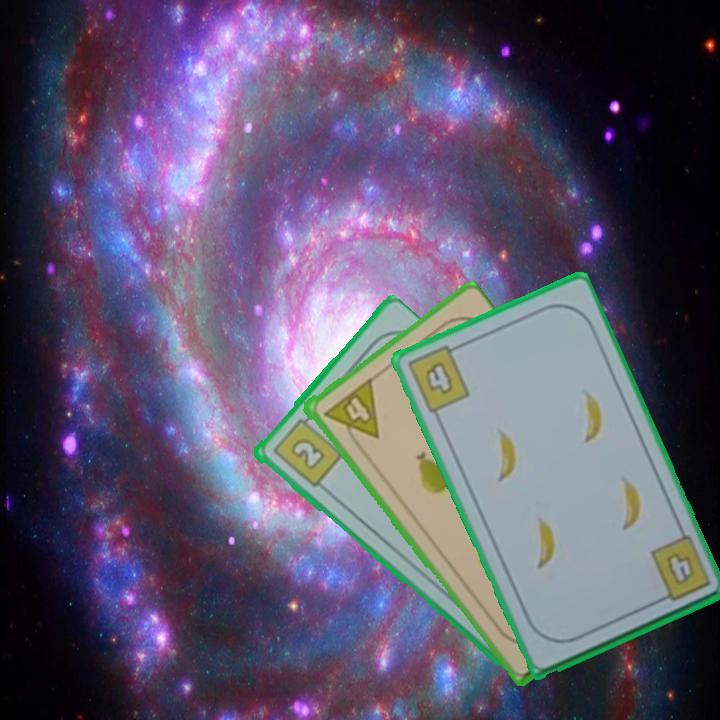2b: (268, 410, 345, 491)
4b: (403, 340, 473, 416), (646, 534, 714, 606)
4p: (318, 376, 382, 452)
